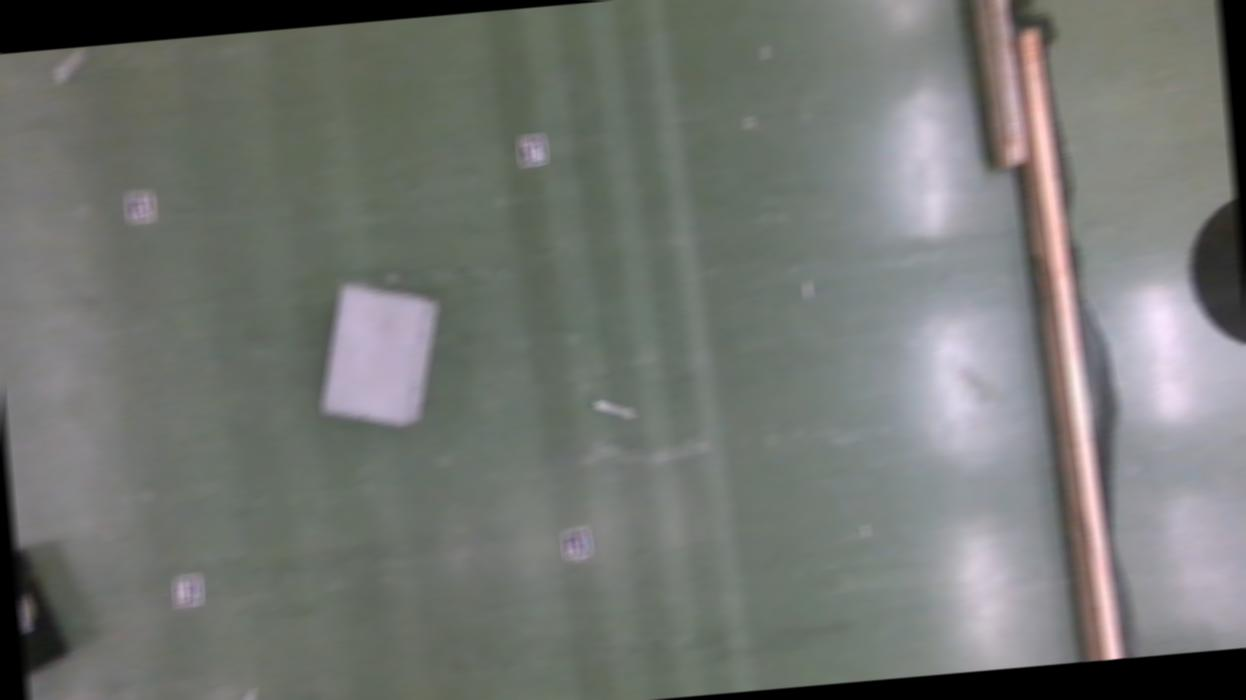probes: (46, 45, 97, 86), (595, 396, 637, 422), (228, 688, 256, 700)
rako: (311, 276, 448, 436), (15, 548, 70, 679)
